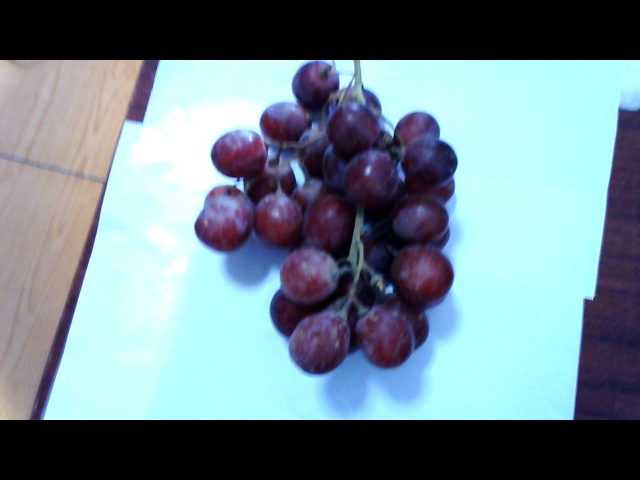grape: (209, 72, 459, 366)
